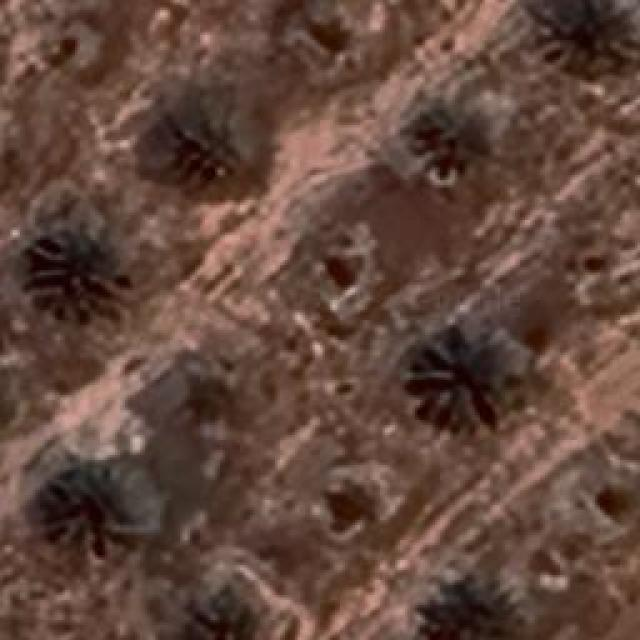PalmTree: (80, 54, 221, 613), (415, 325, 520, 433), (29, 226, 122, 324), (408, 96, 502, 186), (418, 574, 522, 638), (557, 0, 640, 80), (172, 105, 238, 173), (322, 472, 384, 532)
